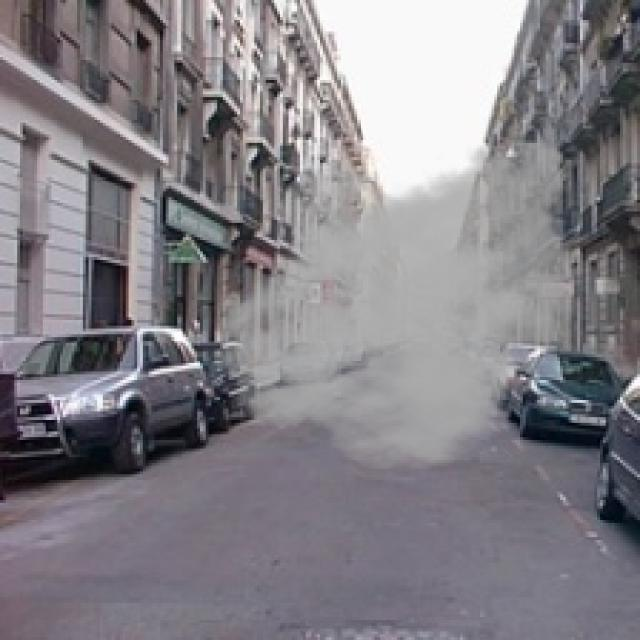smoke: (203, 123, 588, 471)
